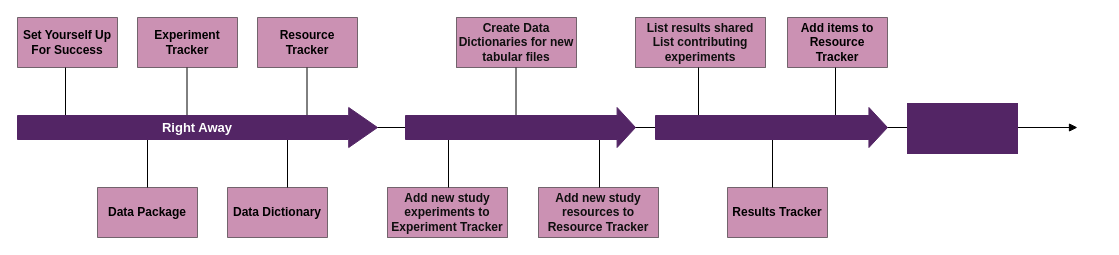
The diagram is 1119 pixels wide and 255 high, and some of its shapes have lost their labels. Here are the shapes that lost their labels. From the top down, the centre of each, then its label:
the point at 520,127: Throughout Your Study
the point at 771,127: After Manuscript Finalized
the point at 1061,107: NEXT: Prepare for submission
the point at 962,128: Finish Preparing Data Package Locally
